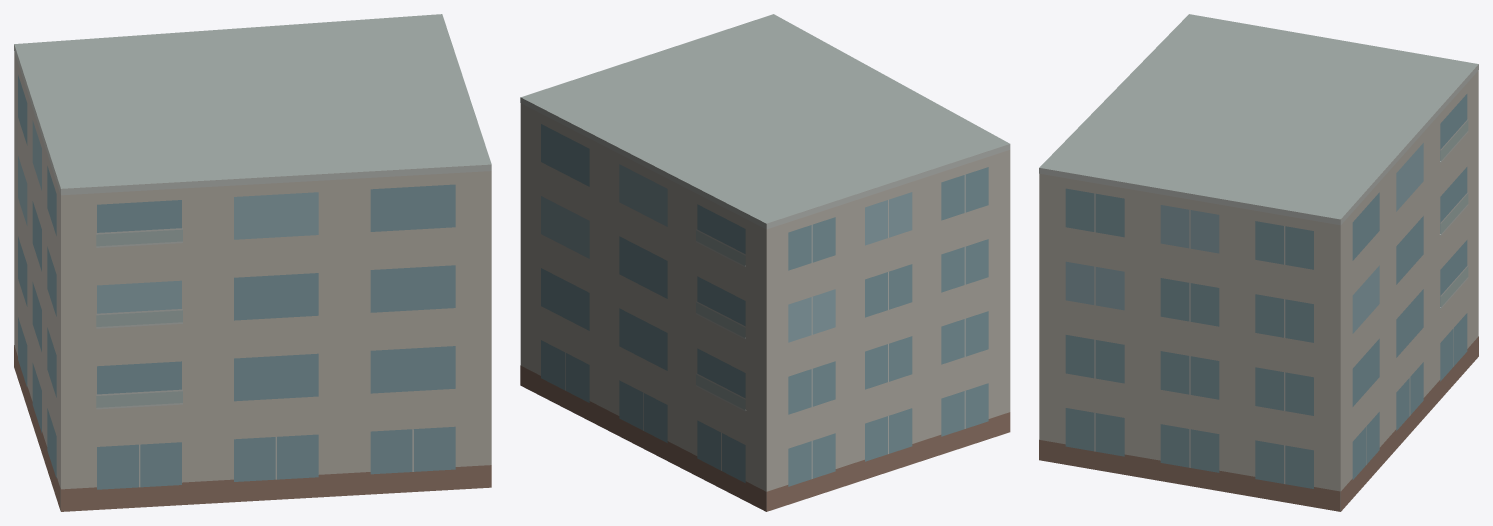
Rendered from survey-upis-32983021.glb.
The picture shows the model from 3 angles, left to right: view 1: azimuth 30°, elevation 25°; view 2: azimuth 150°, elevation 25°; view 3: azimuth 270°, elevation 25°; orthographic projection. The views are drawn at different scales.
Parts seen in each view (by area): view 1: survey-upis-32983021.tmp; view 2: survey-upis-32983021.tmp; view 3: survey-upis-32983021.tmp.
Part boxes in pixels (x1=…): survey-upis-32983021.tmp: x1=14, y1=14, x2=491, y2=511; survey-upis-32983021.tmp: x1=520, y1=14, x2=1010, y2=511; survey-upis-32983021.tmp: x1=1039, y1=14, x2=1478, y2=511.
Size of the model in its own units: 18.32 by 12.15 by 16.57.
